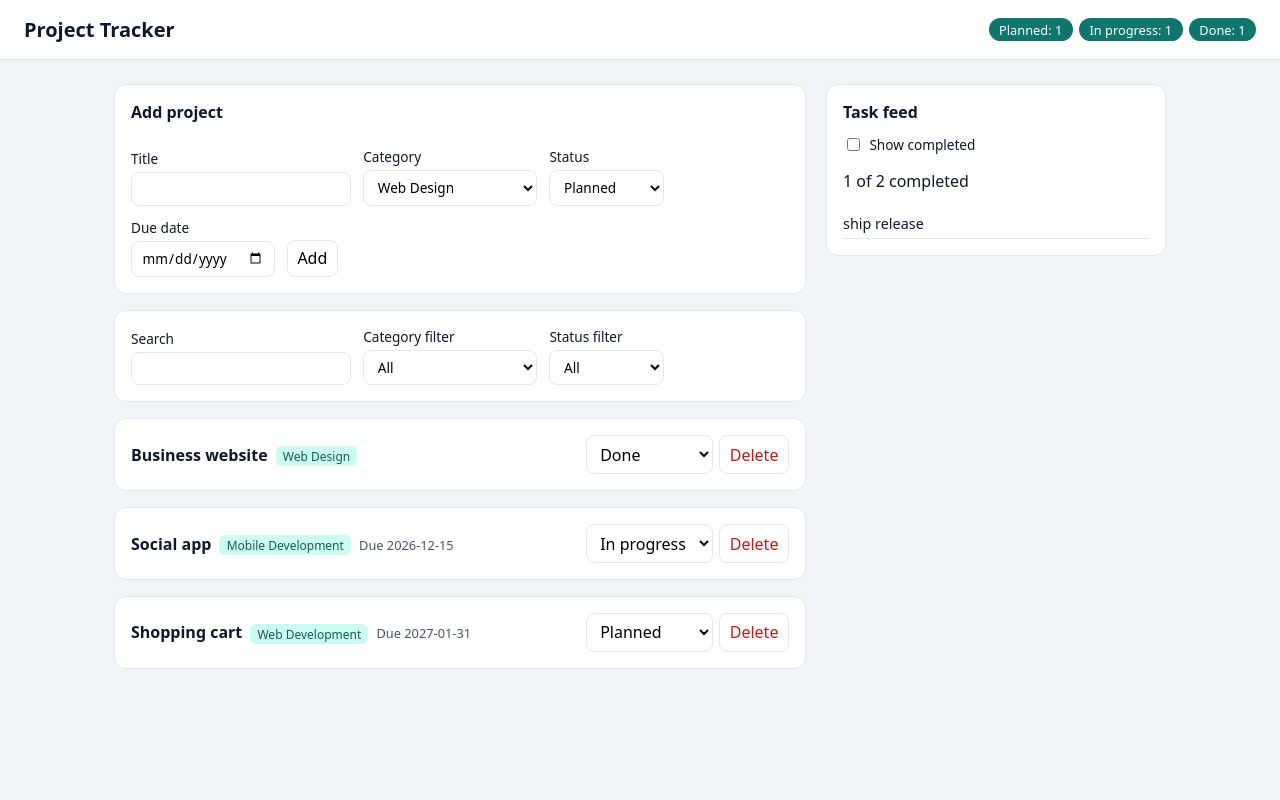
Test: Project Tracker › shows duplicate-title errors
Type "shopping cart" into the field labelled "Title" at (241,189), box [131,172,351,206]
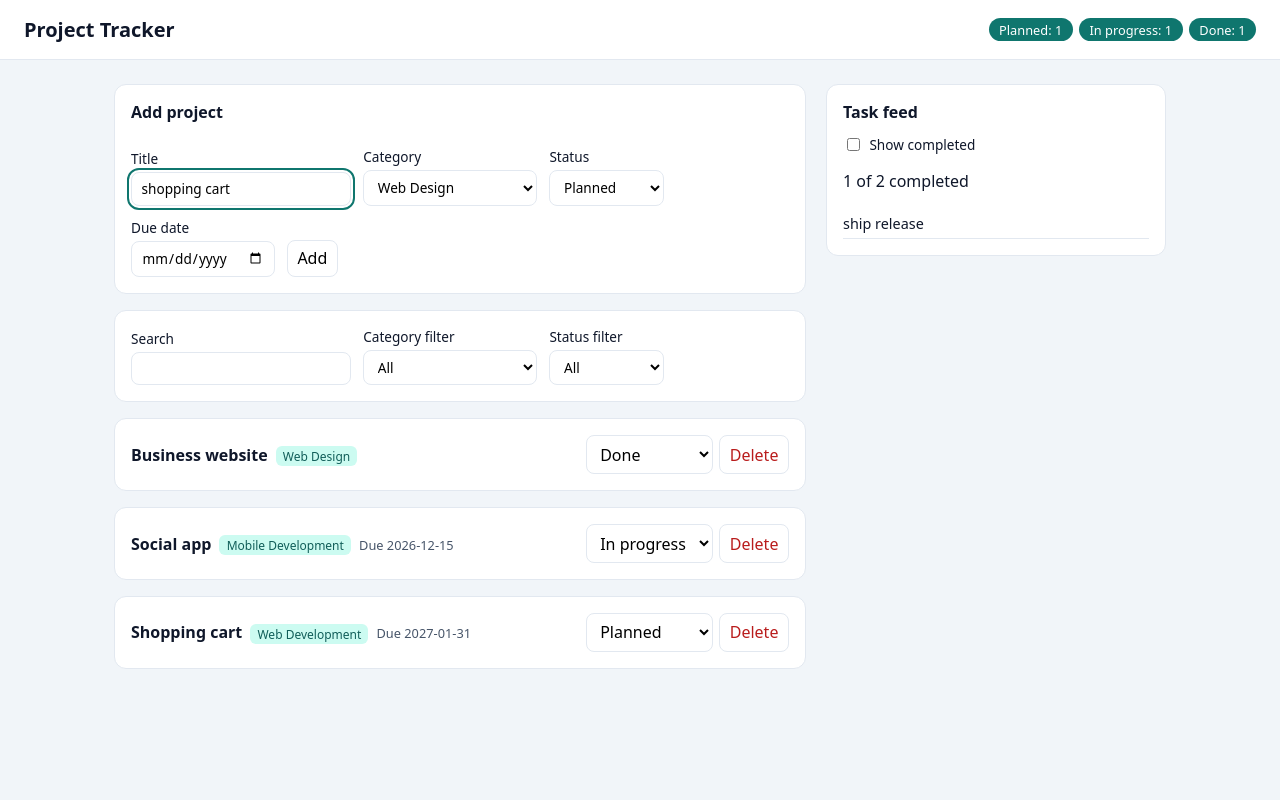
Click the button "Add" at (312,258), box [287,240,338,277]
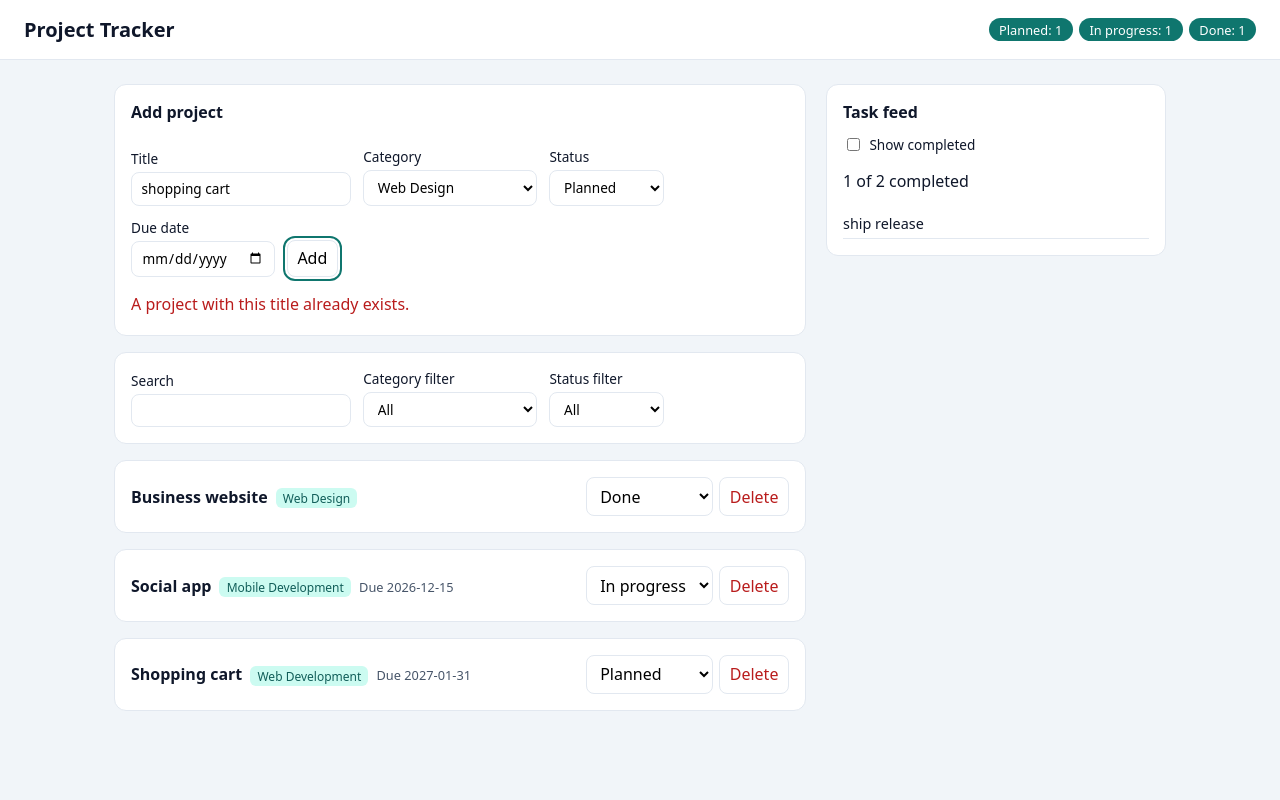
Now the message shows "already exists", box [131,293,409,315]
